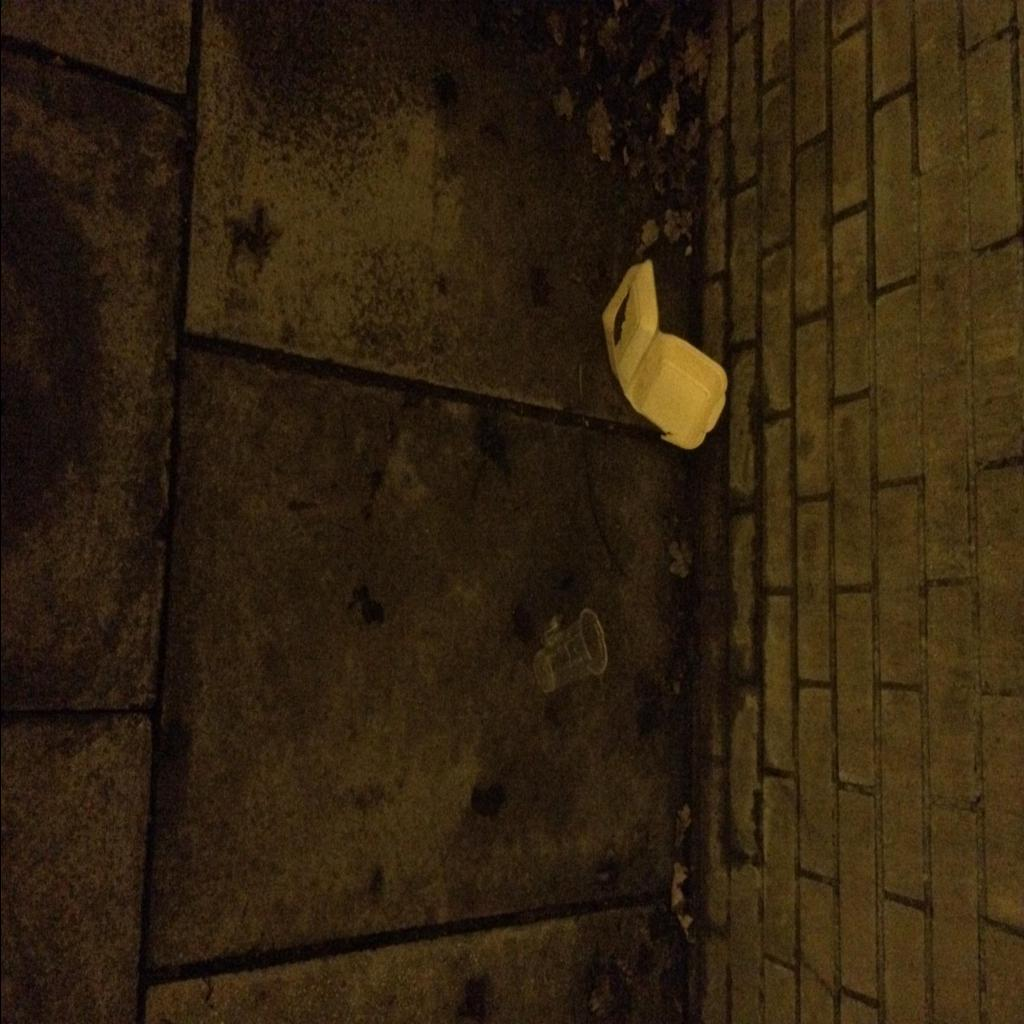Disposable plastic cup: (534, 609, 606, 693)
